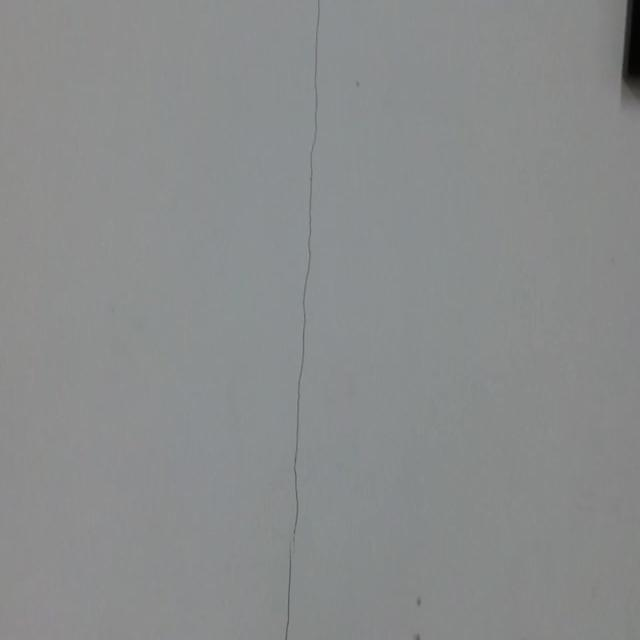Crack: (271, 0, 340, 640)
